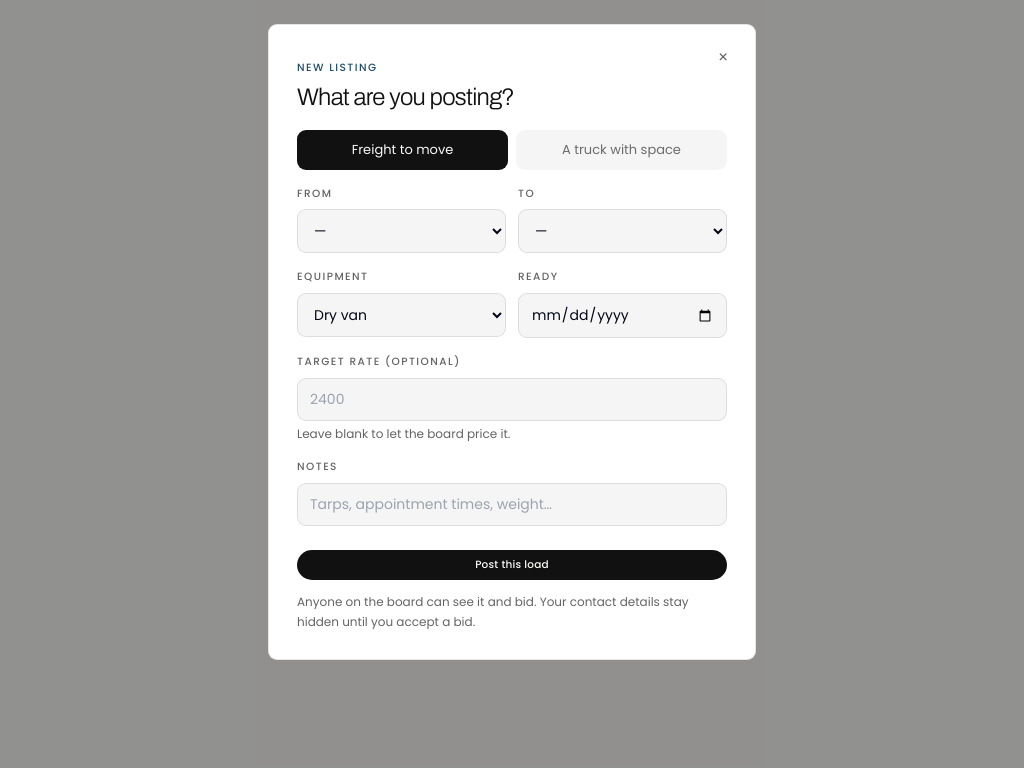
Scenario: PostListing › 1.1 not live -> writes to localStorage, createListing not called
Select "Memphis" in the dropdown labelled "From" at coordinates (402, 231), box [297,209,506,253]
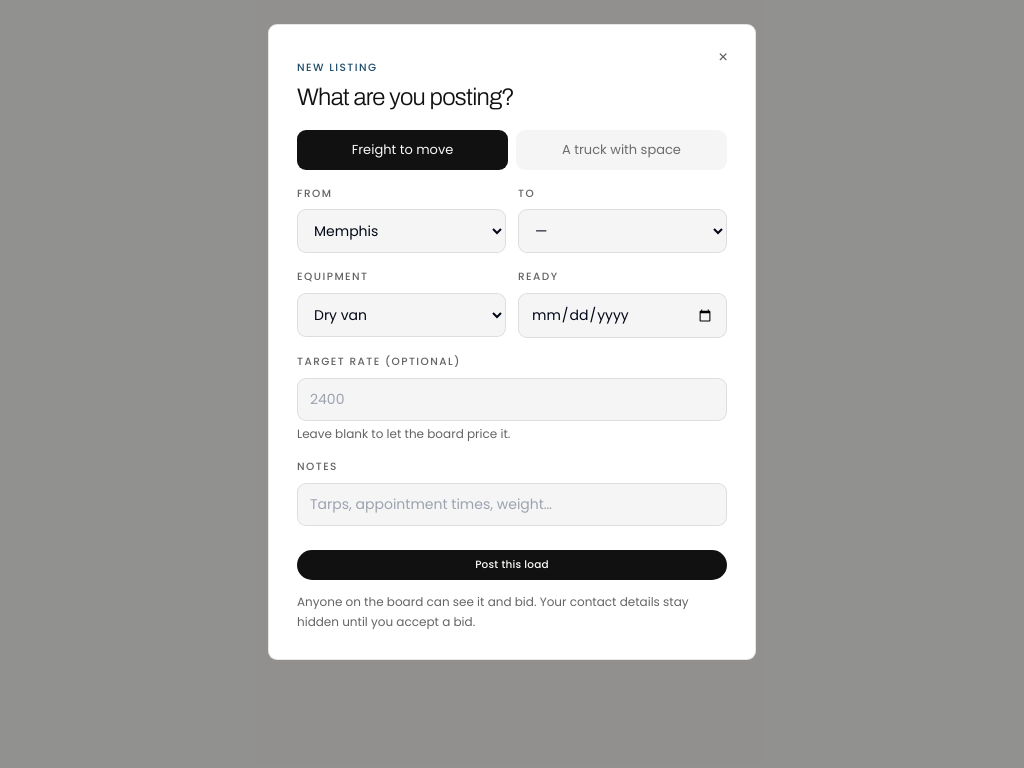
Select "Chicago" in the dropdown labelled "To" at coordinates (622, 231), box [518,209,727,253]
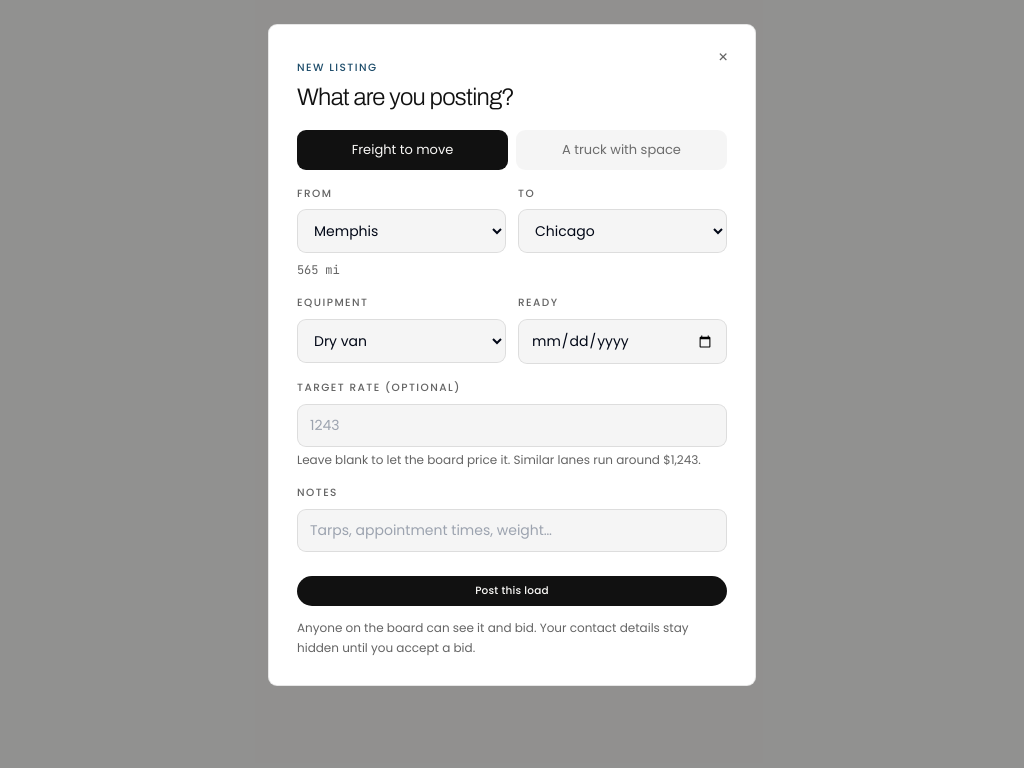
Click the button "Post this load".
click(512, 591)  # box [297,576,727,606]
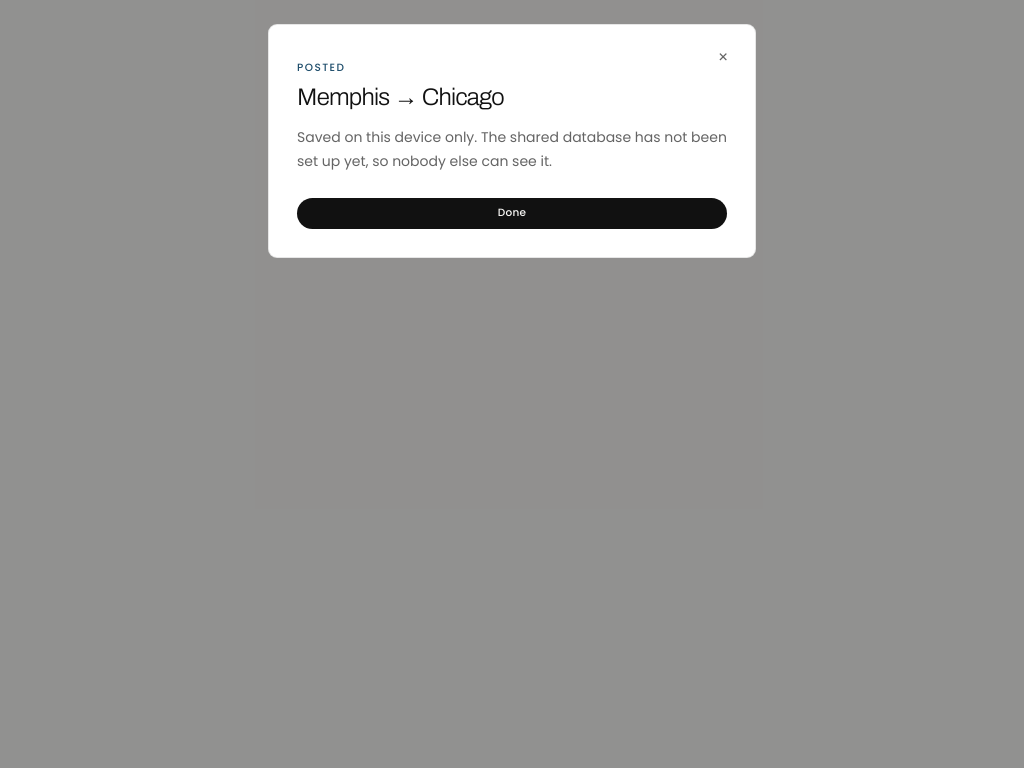
Now the text "Saved on this device only" is shown, box [297,127,727,171]
